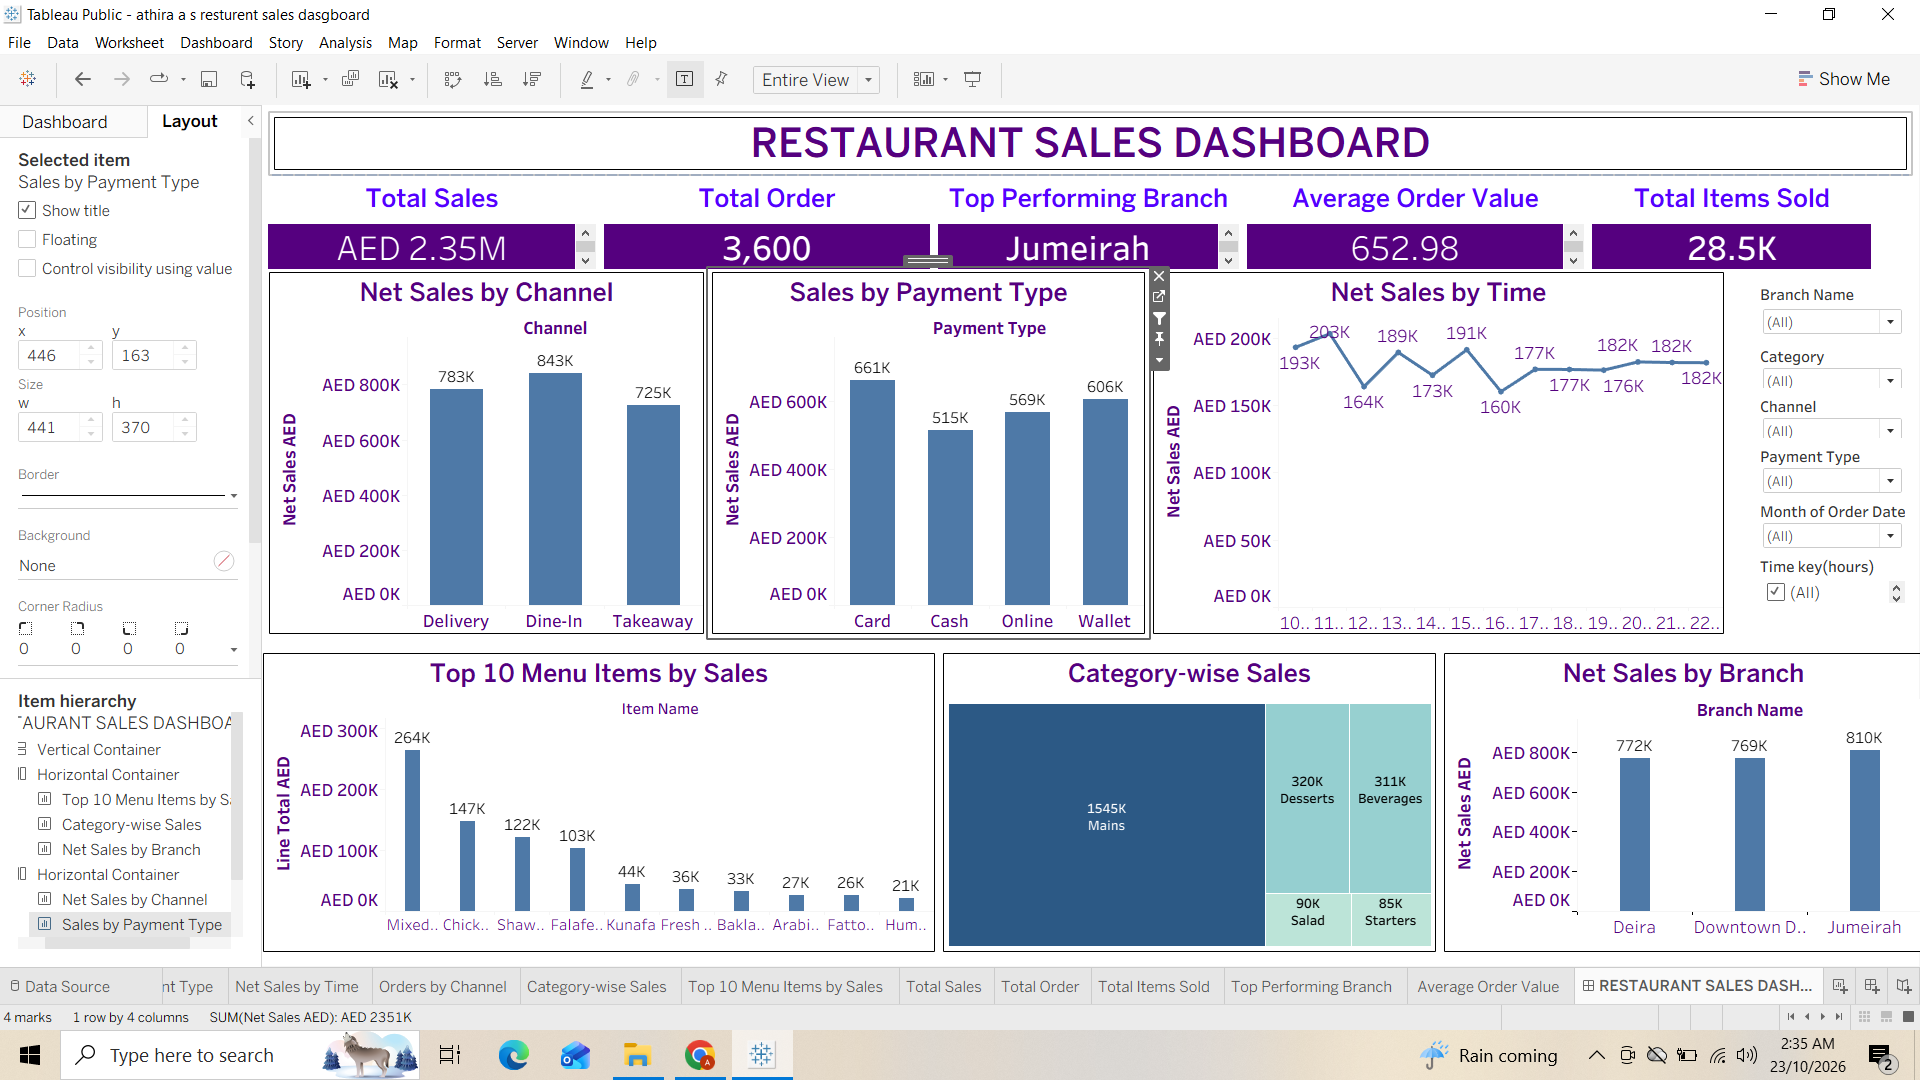

What the dashboard file says about the page in this screenshot:
{"tool":"tableau","page":{"name":"RESTAURANT SALES DASHBOARD   ","canvas":[1000,1000],"units":"permille","ordinal":0},"visuals":[{"type":"title","box":[4.8,9.3,990.3,70.9]},{"type":"worksheet","title":"Total Sales","mark":"Automatic","box":[1.2,81.3,202.8,113.8]},{"type":"worksheet","title":"Total Order","mark":"Automatic","box":[204,81.3,201.6,113.8]},{"type":"worksheet","title":"Top Performing Branch","mark":"Automatic","box":[405.5,81.3,186.3,113.8]},{"type":"worksheet","title":" Average Order Value","mark":"Automatic","box":[591.8,81.3,208.2,113.8]},{"type":"worksheet","title":"Total Items Sold","mark":"Automatic","box":[800,81.3,173.6,113.8]},{"type":"worksheet","title":"Net Sales by Channel","mark":"Automatic","rows":["NetSalesAED"],"cols":["Channel"],"box":[1.8,189.3,267.4,429.7]},{"type":"worksheet","title":"Sales by Payment Type","mark":"Bar","rows":["NetSalesAED"],"cols":["PaymentType"],"box":[269.2,189.3,266.1,429.7]},{"type":"worksheet","title":"Net Sales by Time","mark":"Line","rows":["NetSalesAED"],"cols":["TimeKey"],"box":[535.3,189.3,349.4,429.7]},{"type":"filter","title":"Sales by Payment Type","param":"[federated.0qczla9044bil21d2bwgx1idlb4l].[none:BranchName:nk]","box":[901.6,203.2,92.3,72]},{"type":"filter","title":"Sales by Payment Type","param":"[federated.0qczla9044bil21d2bwgx1idlb4l].[none:Category:nk]","box":[901.6,275.3,92.3,58.1]},{"type":"filter","title":"Sales by Payment Type","param":"[federated.0qczla9044bil21d2bwgx1idlb4l].[none:Channel:nk]","box":[901.6,333.3,92.3,58.1]},{"type":"filter","title":"Sales by Payment Type","param":"[federated.0qczla9044bil21d2bwgx1idlb4l].[none:PaymentType:nk]","box":[901.6,391.4,92.3,63.9]},{"type":"filter","title":"Sales by Payment Type","param":"[federated.0qczla9044bil21d2bwgx1idlb4l].[mn:OrderDate:ok]","box":[901.6,455.3,92.3,63.9]},{"type":"filter","title":"Net Sales by Channel","param":"[federated.0qczla9044bil21d2bwgx1idlb4l].[none:TimeKey:nk]","box":[901.6,519.2,92.3,63.9]},{"type":"worksheet","title":"Category-wise Sales","mark":"Automatic","box":[408.6,631.8,302.4,356.6]},{"type":"worksheet","title":"Net Sales by Branch","mark":"Automatic","rows":["NetSalesAED"],"cols":["BranchName"],"box":[710.9,631.8,293.9,356.6]}]}

Visuals, with their boxes on the dashboard's canvas, which has no fixed pixel size, in thousandths of its width and height (x1, y1, x2, y2). These are canvas units, not pixel positions in the 1920x1080 screenshot, which may show the page scaled, cropped or inside an application window:
title: locate(5, 9, 995, 80)
"Total Sales" worksheet: locate(1, 81, 204, 195)
"Total Order" worksheet: locate(204, 81, 406, 195)
"Top Performing Branch" worksheet: locate(406, 81, 592, 195)
" Average Order Value" worksheet: locate(592, 81, 800, 195)
"Total Items Sold" worksheet: locate(800, 81, 974, 195)
"Net Sales by Channel" worksheet: locate(2, 189, 269, 619)
"Sales by Payment Type" worksheet (Bar marks): locate(269, 189, 535, 619)
"Net Sales by Time" worksheet (Line marks): locate(535, 189, 885, 619)
"Sales by Payment Type" filter: locate(902, 203, 994, 275)
"Sales by Payment Type" filter: locate(902, 275, 994, 333)
"Sales by Payment Type" filter: locate(902, 333, 994, 391)
"Sales by Payment Type" filter: locate(902, 391, 994, 455)
"Sales by Payment Type" filter: locate(902, 455, 994, 519)
"Net Sales by Channel" filter: locate(902, 519, 994, 583)
"Category-wise Sales" worksheet: locate(409, 632, 711, 988)
"Net Sales by Branch" worksheet: locate(711, 632, 1005, 988)
